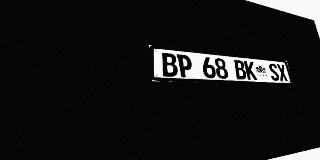plate: (149, 45, 293, 85)
